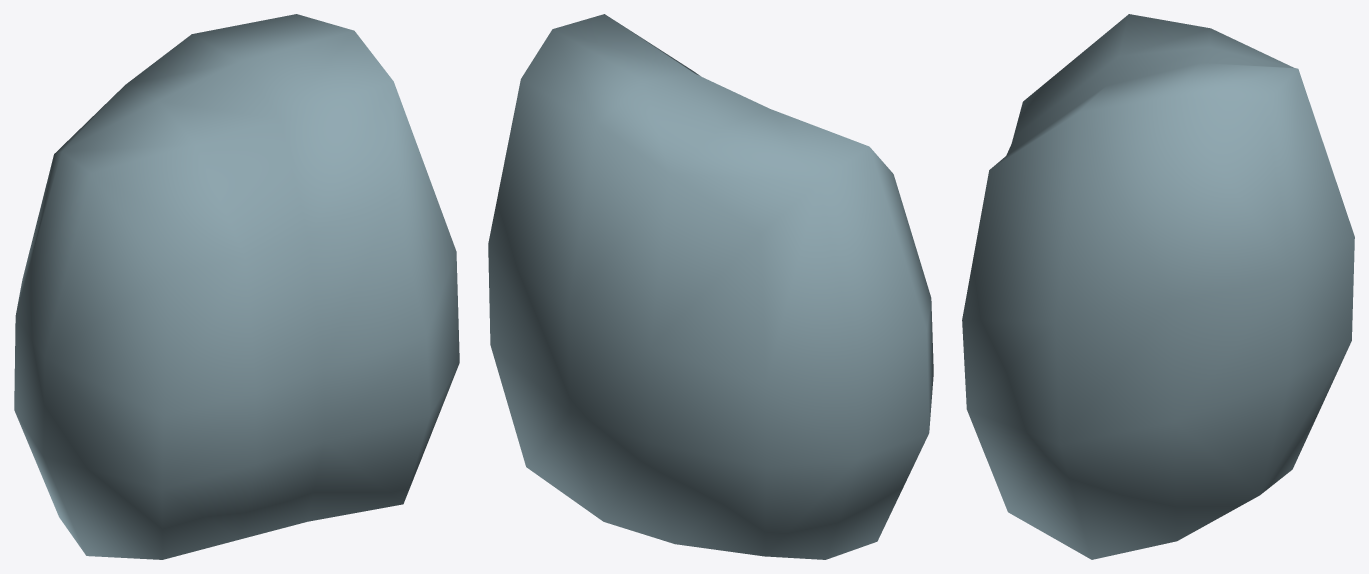
File: Rock_A_06_LOD2.gltf
3 views of the same model, side by side, from view 1: azimuth 30°, elevation 25°; view 2: azimuth 150°, elevation 25°; view 3: azimuth 270°, elevation 25° (orthographic). The views are drawn at different scales.
Parts seen in each view (by area): view 1: Rock_A_06_LOD2_Cube.741; view 2: Rock_A_06_LOD2_Cube.741; view 3: Rock_A_06_LOD2_Cube.741.
Part boxes in pixels (x1=…): Rock_A_06_LOD2_Cube.741: x1=14, y1=14, x2=459, y2=559; Rock_A_06_LOD2_Cube.741: x1=488, y1=14, x2=933, y2=559; Rock_A_06_LOD2_Cube.741: x1=962, y1=14, x2=1354, y2=559.
Bounding box in the file's own units: 3 × 3.3 × 2.5.
Materials: 1 (1 with a texture image).
